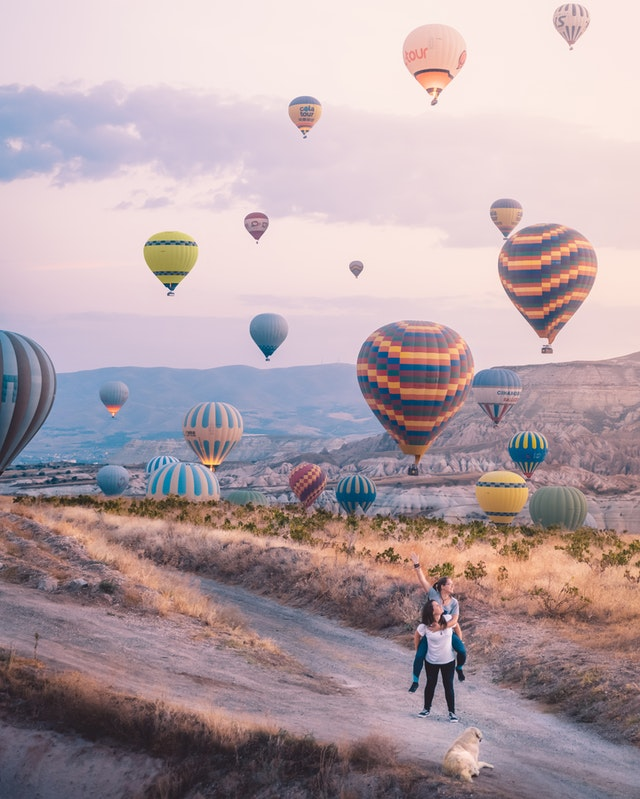balloon: (351, 318, 476, 476), (496, 220, 602, 355), (0, 329, 59, 477), (400, 22, 470, 107), (181, 399, 246, 475), (140, 227, 201, 297), (472, 469, 529, 533), (143, 461, 225, 504), (470, 367, 522, 427), (529, 484, 589, 532), (246, 311, 290, 363), (506, 429, 550, 481), (551, 1, 591, 51), (334, 472, 377, 518), (286, 460, 328, 506), (285, 92, 323, 139), (488, 197, 524, 240), (98, 378, 130, 419), (95, 463, 129, 497), (239, 210, 270, 244), (140, 453, 175, 476), (226, 487, 269, 504), (346, 259, 363, 278)
dog: (439, 725, 496, 785)
person: (412, 597, 461, 719), (407, 551, 460, 629)
